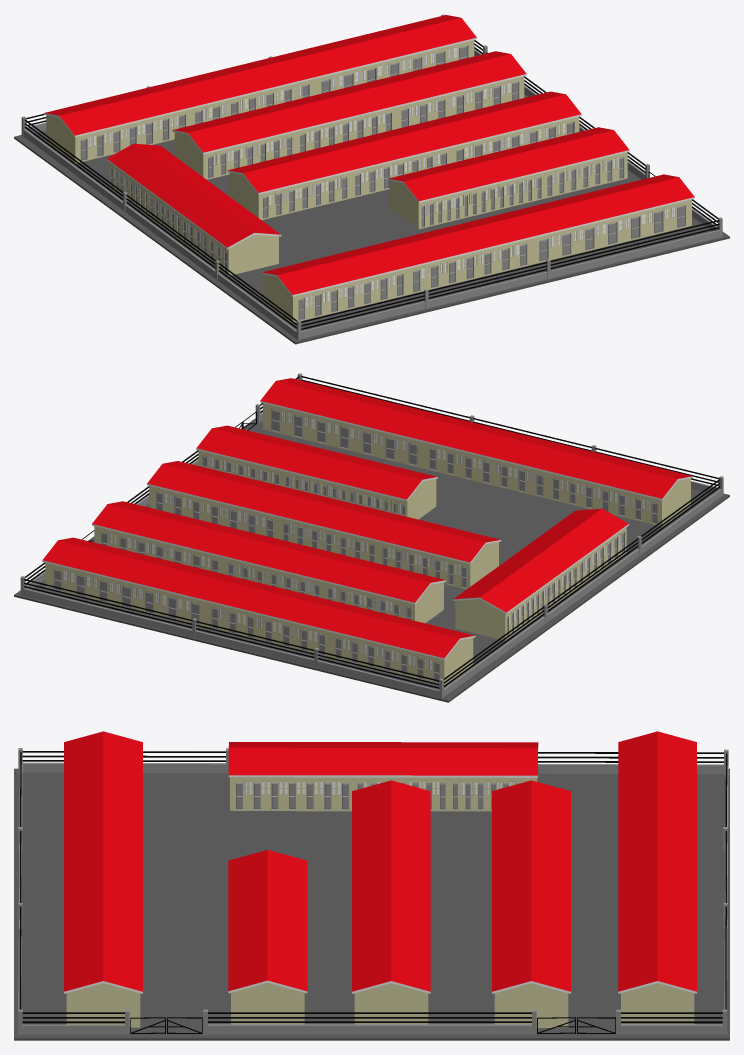
The model's file is dorm.fbx.
3 views of the same model, one above another, from view 1: azimuth 30°, elevation 25°; view 2: azimuth 150°, elevation 25°; view 3: azimuth 270°, elevation 25° (orthographic). The views are drawn at different scales.
Visible parts, largest first — view 1: building_001.001, building_001.006, building_001.002, Cube, building_001.003, building_001.004, building_001.005, Cube.010, Cube.006; view 2: building_001.001, building_001.006, building_001.003, building_001.002, Cube, building_001.005, building_001.004, Cube.010, Cube.006; view 3: Cube, building_001.001, building_001.006, building_001.002, building_001.003, building_001.005, building_001.004, Cube.010, Cube.006, Cube.001.
Part boxes in pixels (bbox=[...]): building_001.001: bbox=[261, 174, 694, 322]; building_001.006: bbox=[44, 15, 476, 163]; building_001.002: bbox=[172, 51, 526, 179]; Cube: bbox=[14, 94, 729, 344]; building_001.003: bbox=[227, 91, 581, 220]; building_001.004: bbox=[388, 127, 629, 229]; building_001.005: bbox=[106, 143, 281, 275]; Cube.010: bbox=[21, 14, 722, 340]; Cube.006: bbox=[24, 40, 719, 329]; building_001.001: bbox=[260, 378, 693, 526]; building_001.006: bbox=[42, 537, 475, 685]; building_001.003: bbox=[147, 461, 501, 589]; building_001.002: bbox=[92, 501, 445, 623]; Cube: bbox=[14, 418, 729, 702]; building_001.005: bbox=[453, 508, 628, 640]; building_001.004: bbox=[196, 425, 437, 519]; Cube.010: bbox=[20, 373, 723, 698]; Cube.006: bbox=[24, 376, 720, 688]; Cube: bbox=[14, 768, 729, 1040]; building_001.001: bbox=[64, 731, 142, 1027]; building_001.006: bbox=[618, 731, 696, 1024]; building_001.002: bbox=[492, 780, 570, 1027]; building_001.003: bbox=[352, 780, 430, 1024]; building_001.005: bbox=[228, 742, 538, 811]; building_001.004: bbox=[228, 850, 307, 1024]; Cube.010: bbox=[18, 748, 728, 1034]; Cube.006: bbox=[19, 751, 727, 1023]; Cube.001: bbox=[537, 1017, 615, 1034].
Size of the model in its own units: 24324 by 2105 by 27283.
